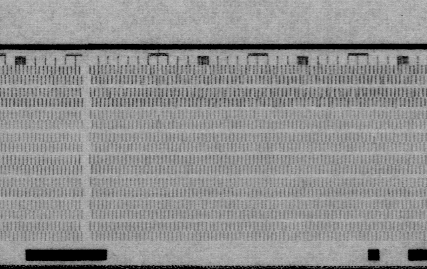Oblique printing: (201, 64, 213, 75)
